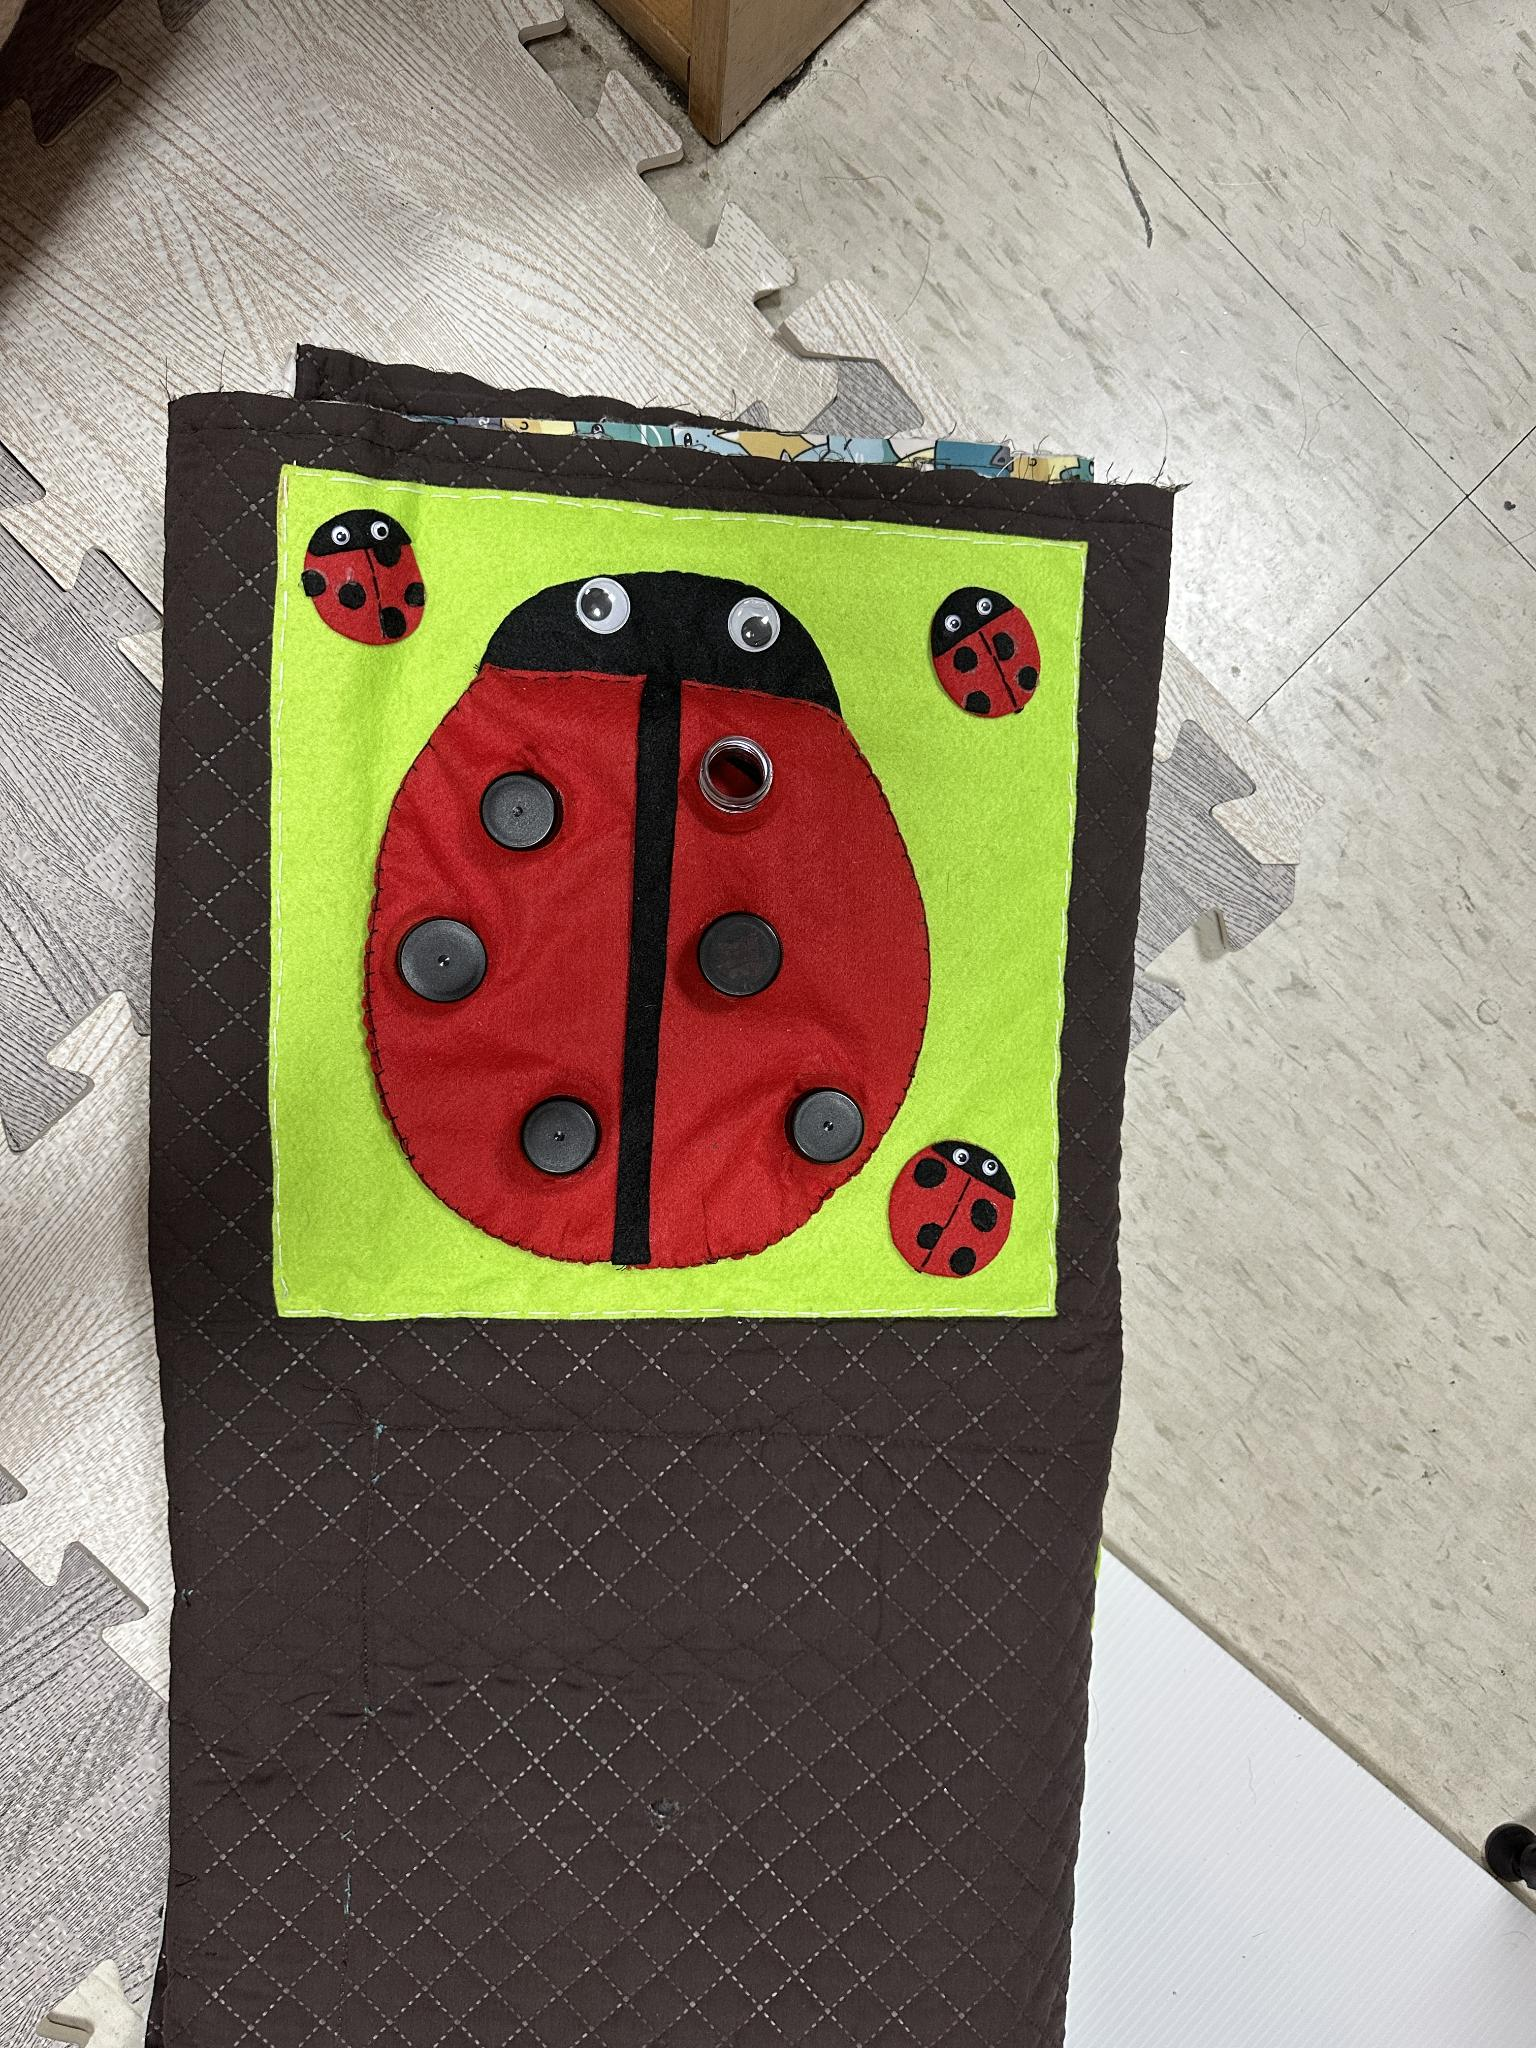cap_ok: (442, 734, 592, 879), (681, 885, 799, 1026), (376, 906, 510, 1029), (513, 1079, 616, 1192), (783, 1072, 876, 1176)
